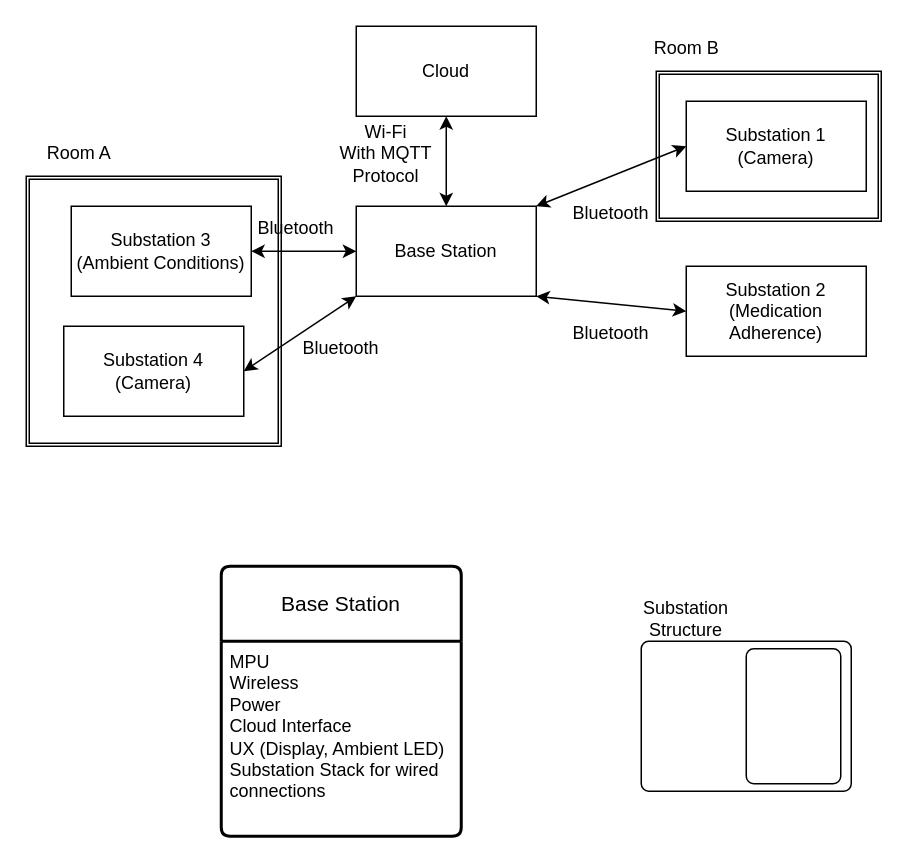
Some shapes in this 908 by 864 pixel diagram are drawn without their labels. The centre of each missing label's shape, as x and y in pixels:
"MCU Wireless Battery Power" belongs at point 693,715.
"Sensors" belongs at point 793,715.
